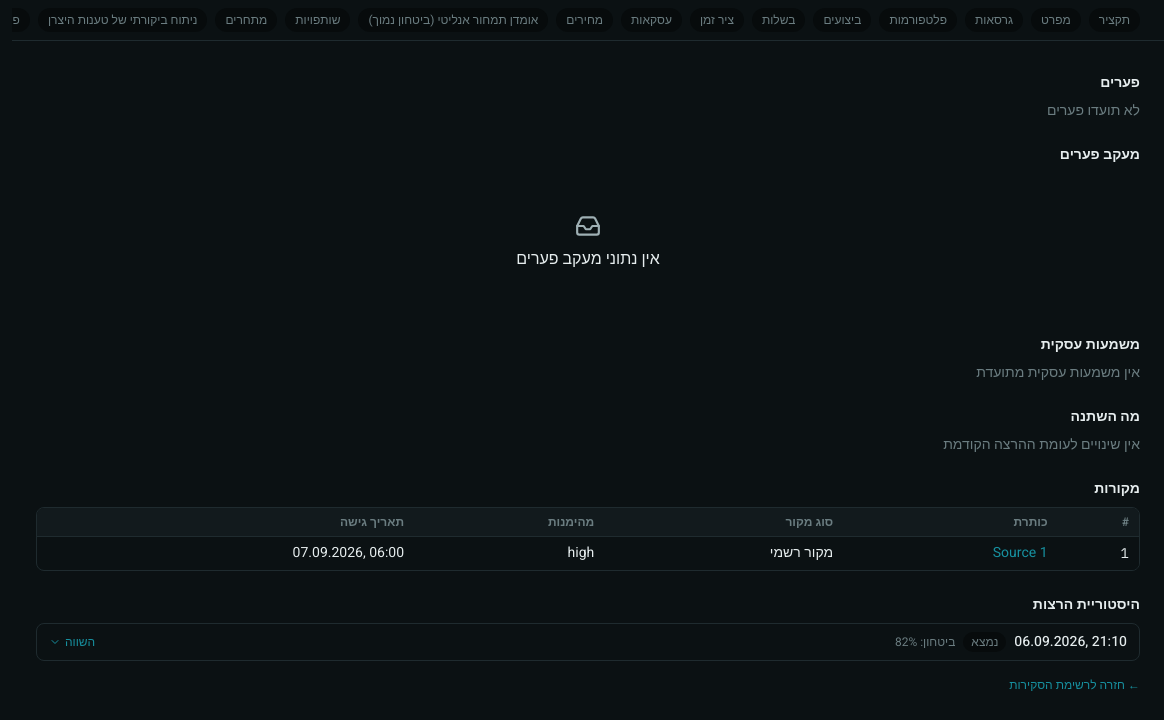
Test: DossierDetailPage (PD-ui) › expands a run-history row's 'השווה' to show its what_changed sentences
(page scrolled)
Expected: the list with test id "dossier-run-history" is shown, [36,623,1140,661]
Click the button with test id "dossier-run-compare-501". click: x=72, y=642
box: [49,634,95,650]
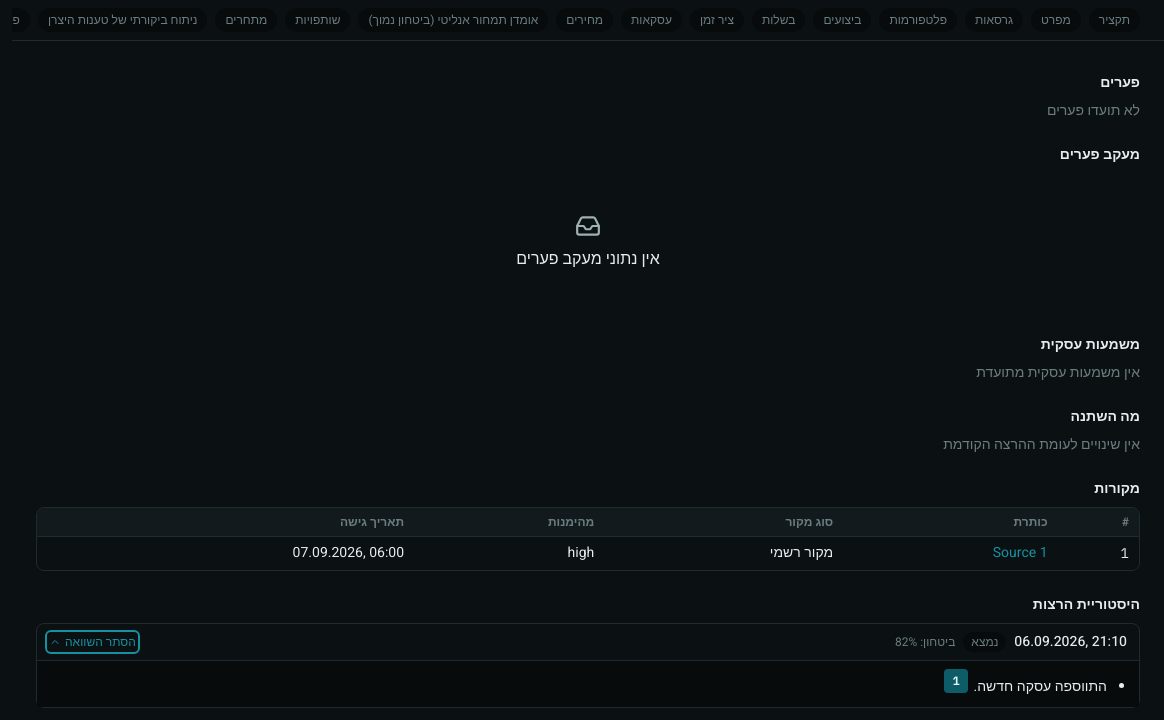
Expected: the text "התווספה עסקה חדשה." is shown, [970,676,1107,697]
